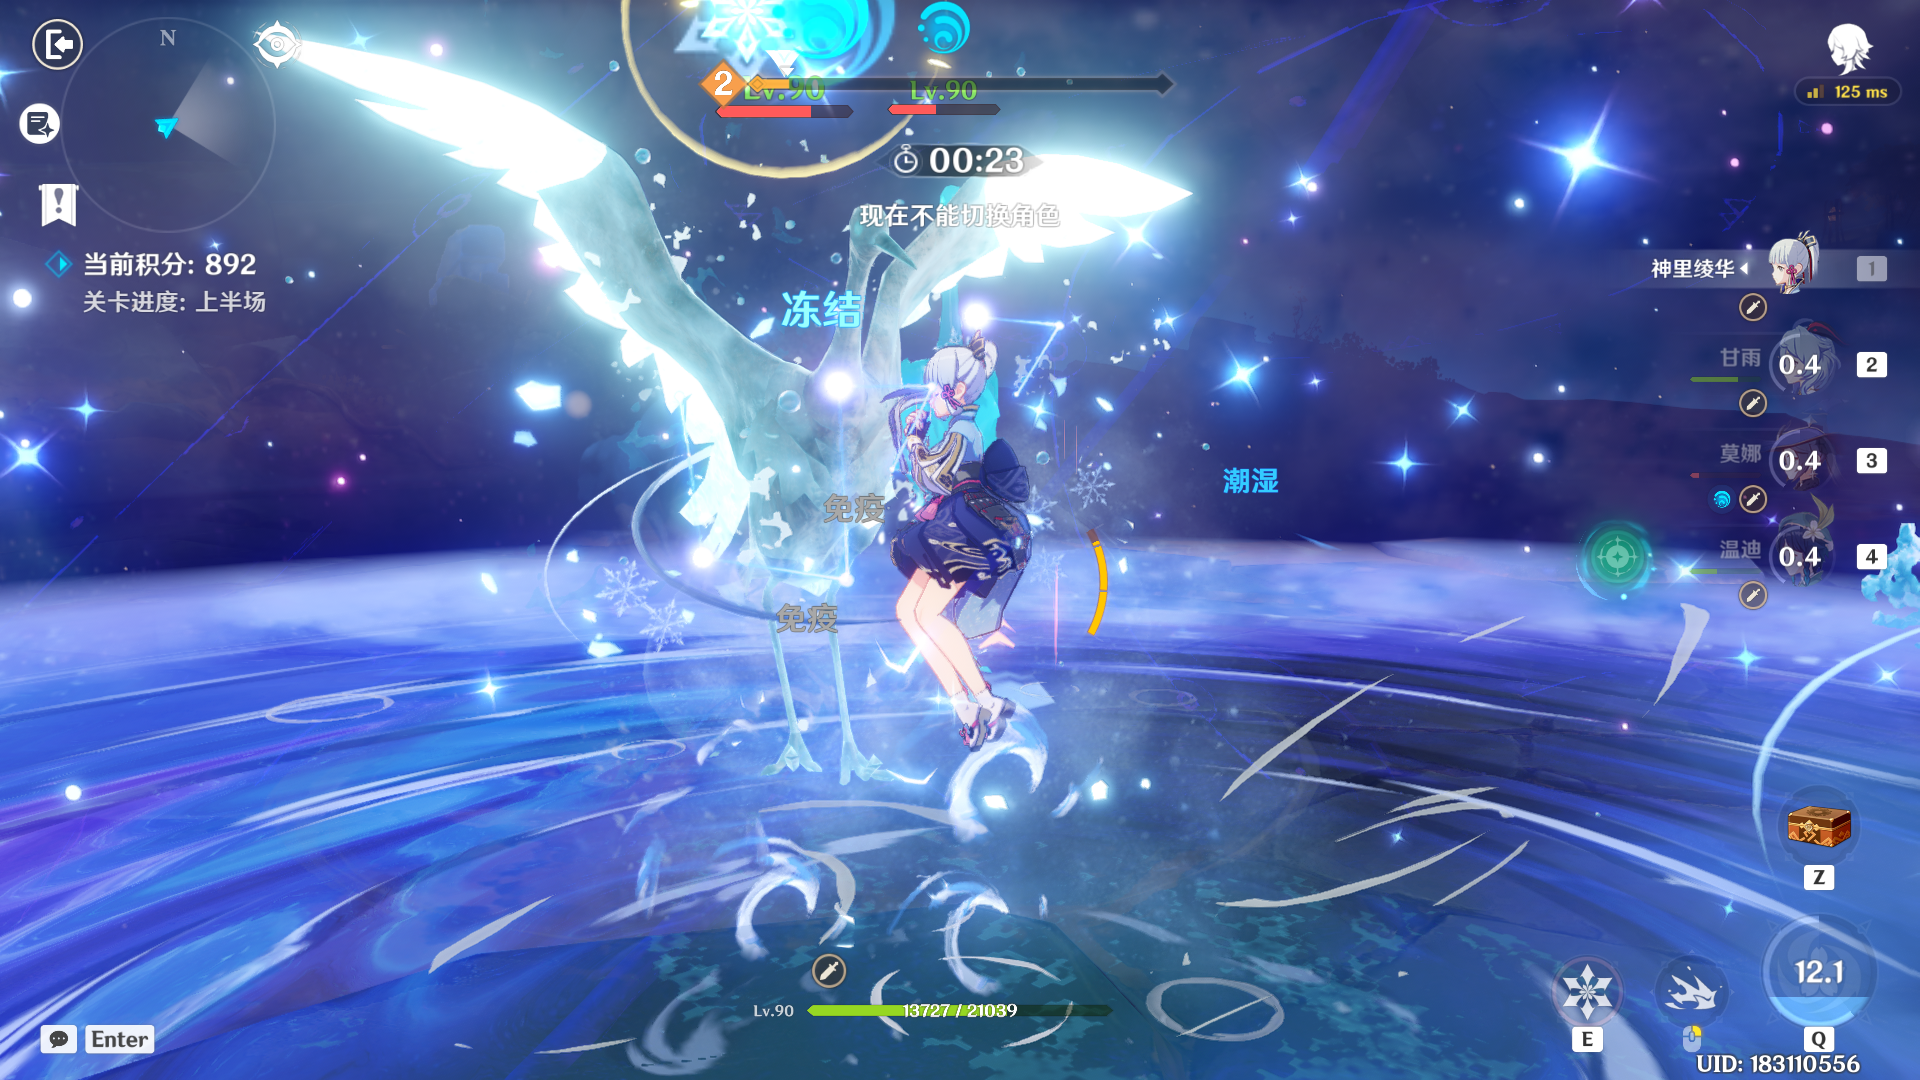character: (823, 291, 1091, 774)
